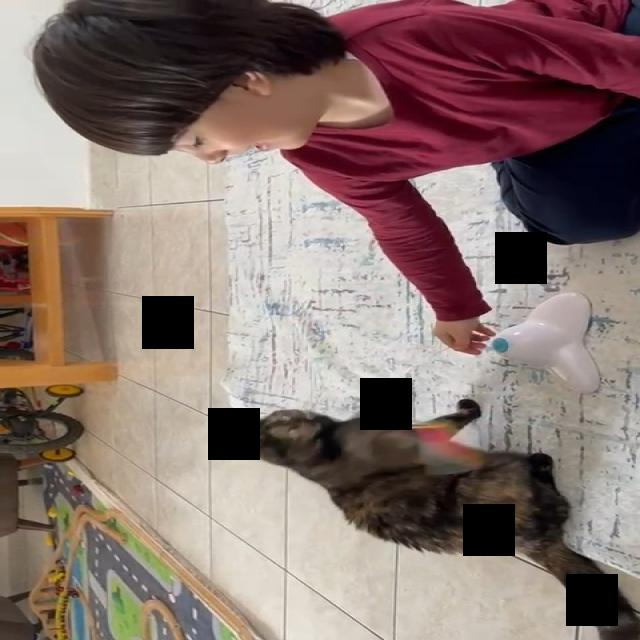authorized: (232, 402, 639, 639)
